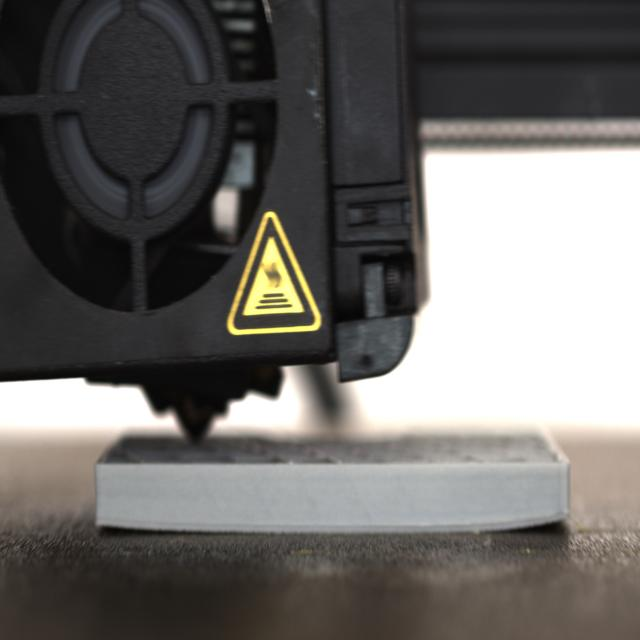Warping: (506, 508, 570, 540)
